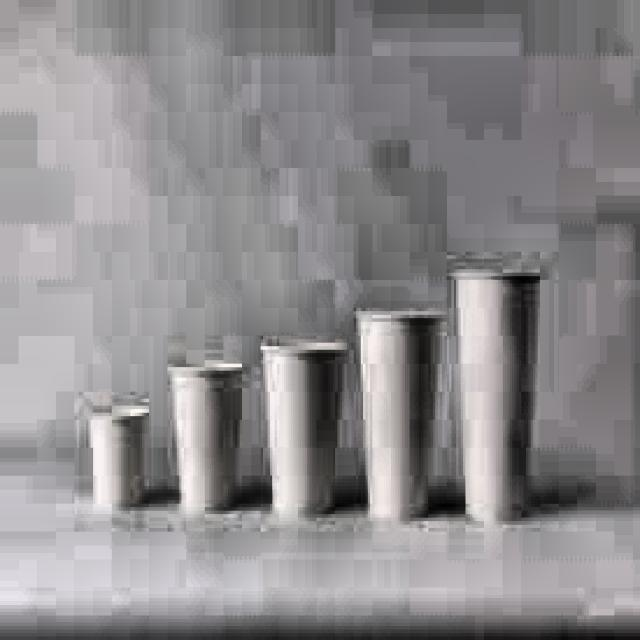Cup: (452, 266, 550, 530), (355, 306, 444, 537), (255, 337, 348, 528), (162, 340, 245, 534), (80, 406, 154, 515)
